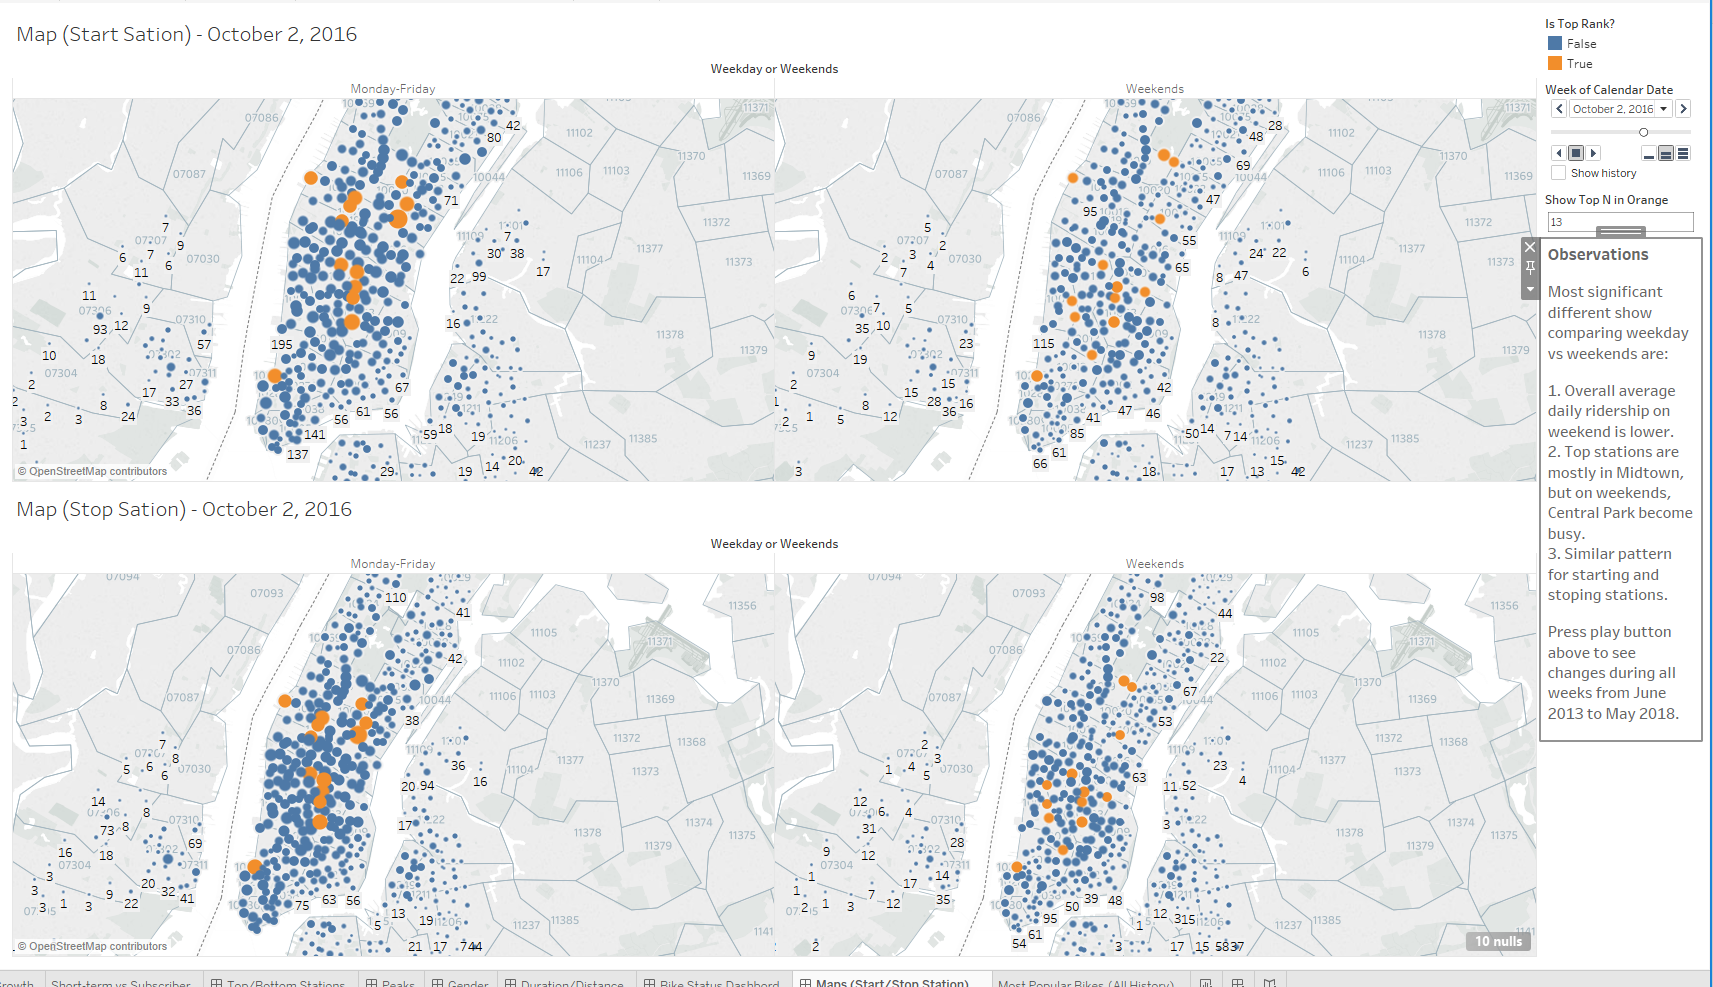

Layout of this report page (visuals, bound fields, positions):
{"tool":"tableau","page":{"name":"Maps (Start/Stop Station) Weekend vs Weekdays","canvas":[1000,1000],"units":"permille","ordinal":3},"visuals":[{"type":"worksheet","title":"Map (Start Sation)","mark":"Automatic","rows":["start_station_latitude"],"cols":["start_station_longitude"],"box":[4.7,8.3,897,491.7]},{"type":"legend","title":"Map (Start Sation)","param":"[federated.18fbjh10tbkrwv1dad3lh0hlad40].[usr:Calculation_2809120283226779666:nk","box":[901.7,8.3,93.6,68.3]},{"type":"currpage","title":"Map (Start Sation)","box":[901.7,76.6,93.6,113.9]},{"type":"parameter","param":"[Parameters].[Parameter 2]","box":[901.7,190.5,93.6,53.8]},{"type":"text","box":[901.7,244.3,93.6,518.6]},{"type":"worksheet","title":"Map (Stop Sation)","mark":"Automatic","rows":["end_station_latitude"],"cols":["end_station_longitude"],"box":[4.7,500,897,491.7]}]}

Visuals, with their boxes on the dashboard's canvas, which has no fixed pixel size, in thousandths of its width and height (x1, y1, x2, y2). These are canvas units, not pixel positions in the 1713x987 screenshot, which may show the page scaled, cropped or inside an application window:
"Map (Start Sation)" worksheet: 5/8/902/500
"Map (Start Sation)" legend: 902/8/995/77
"Map (Start Sation)" currpage: 902/77/995/190
parameter: 902/190/995/244
text: 902/244/995/763
"Map (Stop Sation)" worksheet: 5/500/902/992
